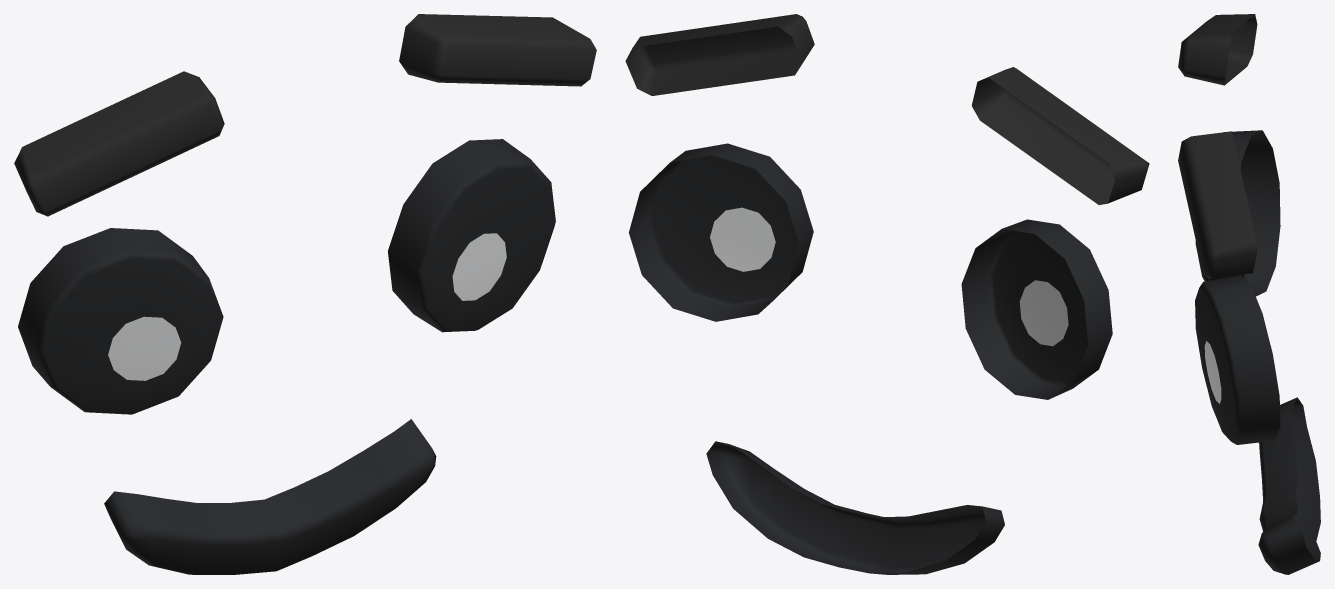
File: Male_Emotion_Usual_02.glb
The picture shows the model from 3 angles, left to right: view 1: azimuth 30°, elevation 25°; view 2: azimuth 150°, elevation 25°; view 3: azimuth 270°, elevation 25°; orthographic projection. The views are drawn at different scales.
Parts seen in each view (by area): view 1: Male_Emotion_Usual_02; view 2: Male_Emotion_Usual_02; view 3: Male_Emotion_Usual_02.
Part boxes in pixels (left/top/right/bottom): Male_Emotion_Usual_02: left=14, top=14, right=596, bottom=574; Male_Emotion_Usual_02: left=625, top=14, right=1149, bottom=574; Male_Emotion_Usual_02: left=1178, top=14, right=1320, bottom=574.
Bounding box in the file's own units: 0.206 × 0.1906 × 0.0523.
Materials: 1 (1 with a texture image).
